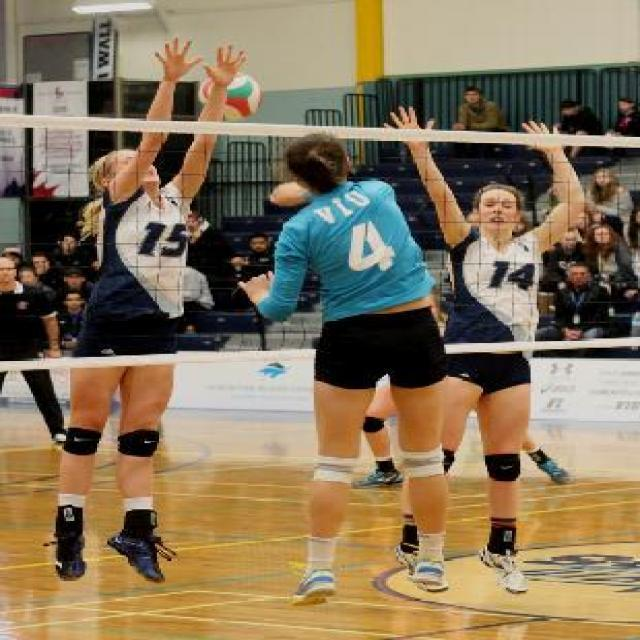volleyball: (226, 70, 262, 120)
